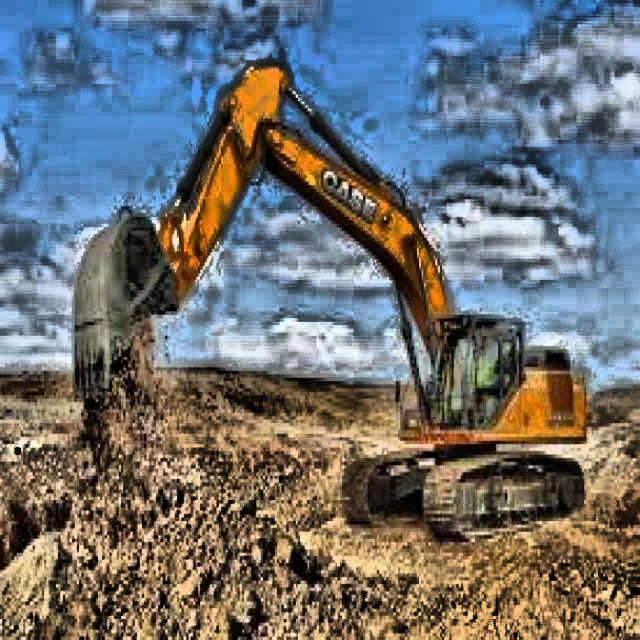bull_dozer/loader/grader: (70, 62, 588, 540)
person: (473, 340, 495, 393)
